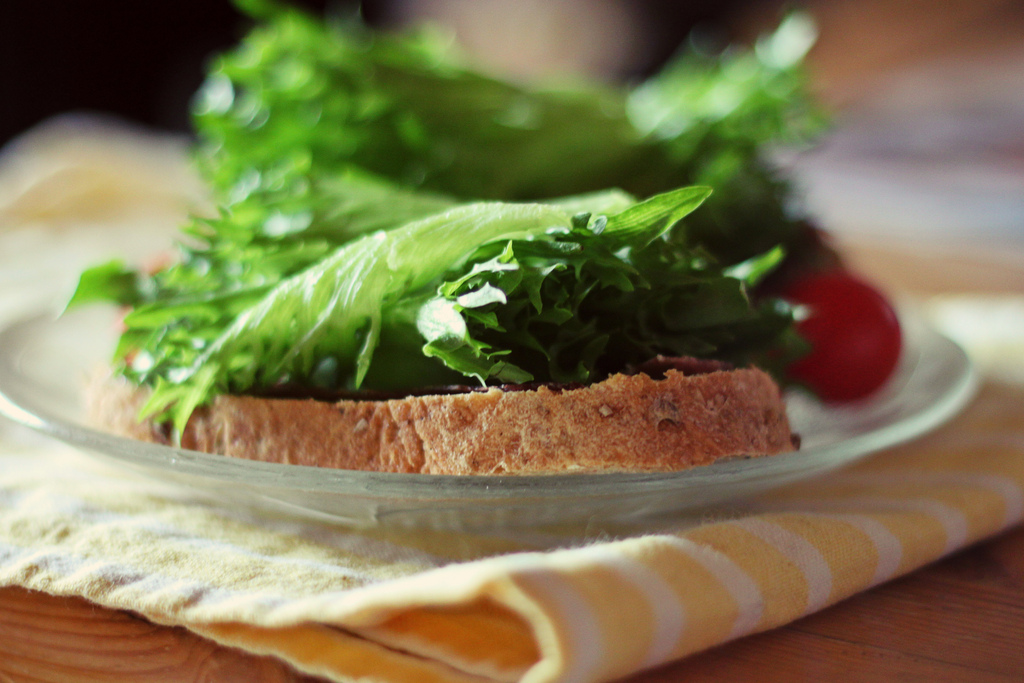chopped lettuce: (152, 35, 833, 386)
slice of bread: (192, 368, 787, 481)
